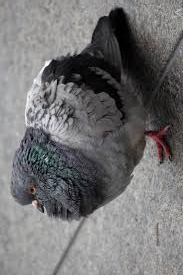pigeon: (8, 13, 175, 223)
